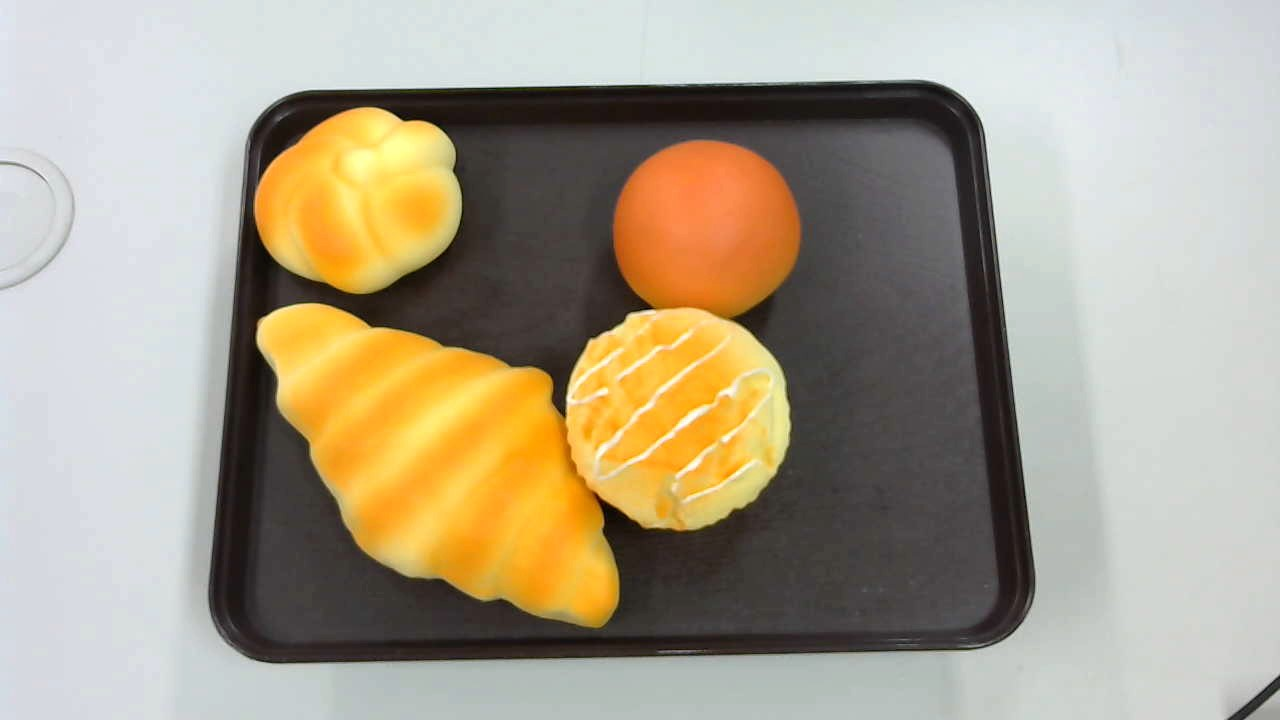bun: (612, 139, 803, 319)
croissant: (253, 301, 620, 630)
cupcake: (566, 308, 792, 532)
twist bread: (253, 106, 463, 293)
